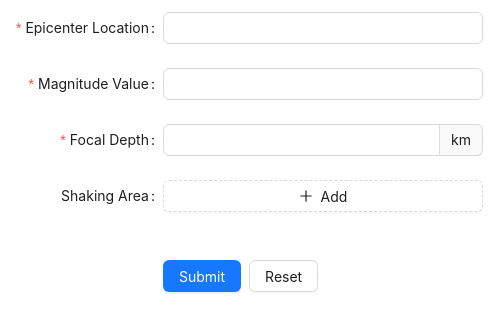
Scenario: SimulationForm component › should reset all form fields when Reset button is clicked
In the field labelled "Epicenter Location": point(323, 28) x1=163 y1=12 x2=483 y2=44, type "Test Location"
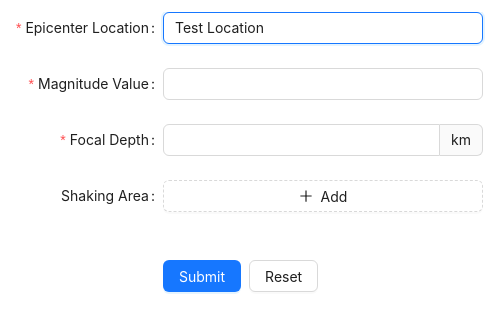
In the number field labelled "Magnitude Value": point(323, 84) x1=164 y1=69 x2=482 y2=99, type "6.5"
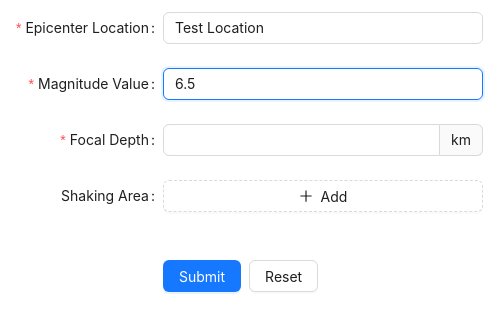
In the number field labelled "Focal Depth": point(302, 140) x1=164 y1=125 x2=439 y2=155, type "30"
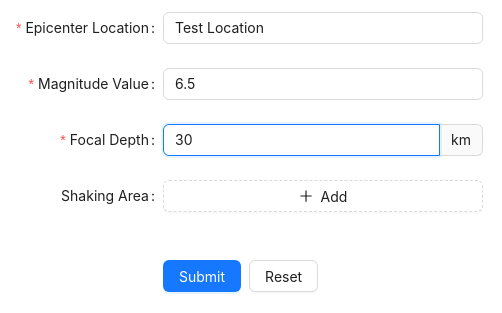
Click the button "Reset": point(284, 276) x1=249 y1=260 x2=318 y2=292
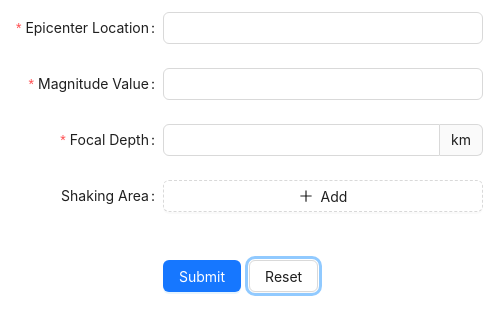
Result: the field labelled "Epicenter Location" is empty at x1=163 y1=12 x2=483 y2=44
Result: the number field labelled "Magnitude Value" is empty at x1=164 y1=69 x2=482 y2=99
Result: the number field labelled "Focal Depth" is empty at x1=164 y1=125 x2=439 y2=155
